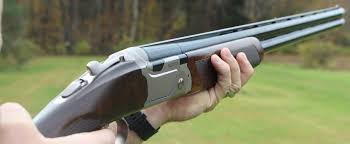gun: (28, 3, 346, 136)
